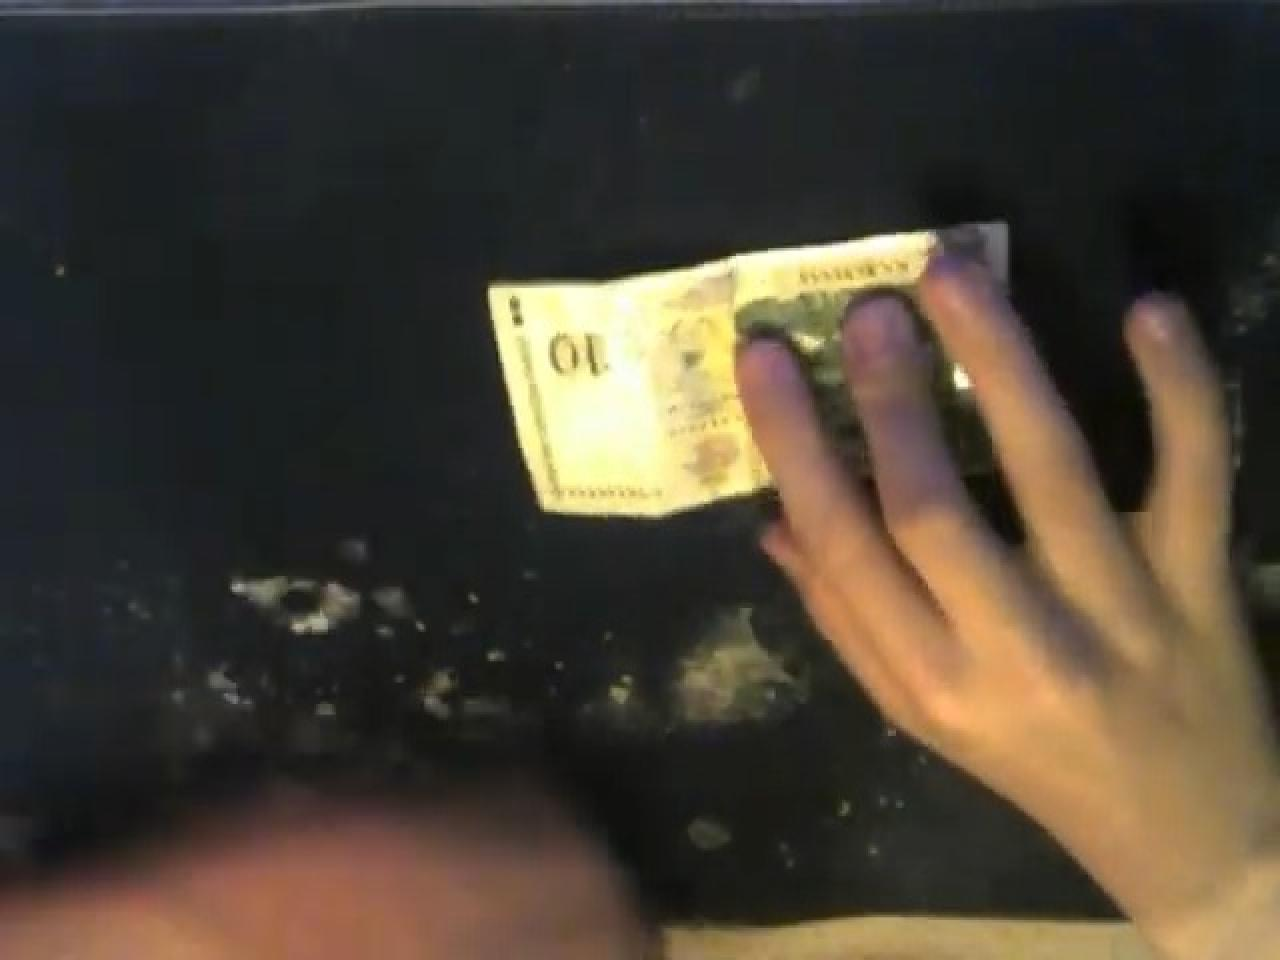10leva: (490, 227, 1002, 517)
